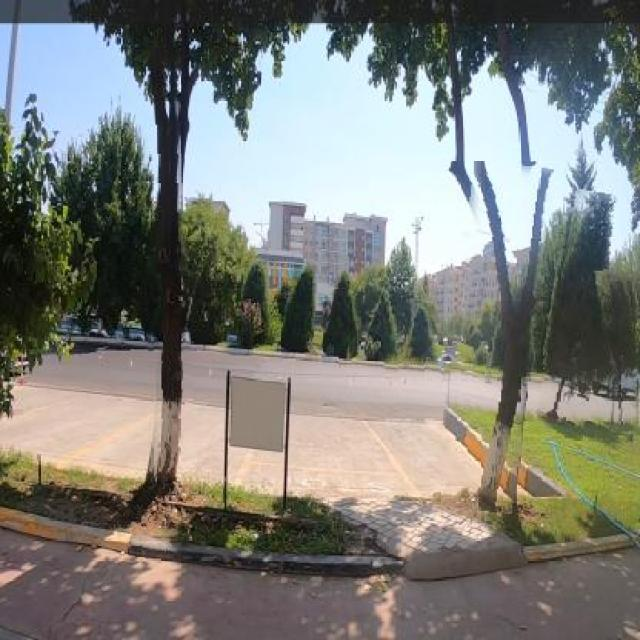tree trunk: (443, 161, 545, 513), (139, 47, 193, 496), (544, 189, 616, 440), (598, 268, 640, 434), (322, 256, 355, 364), (369, 271, 400, 380), (287, 258, 315, 376), (406, 298, 439, 378)
